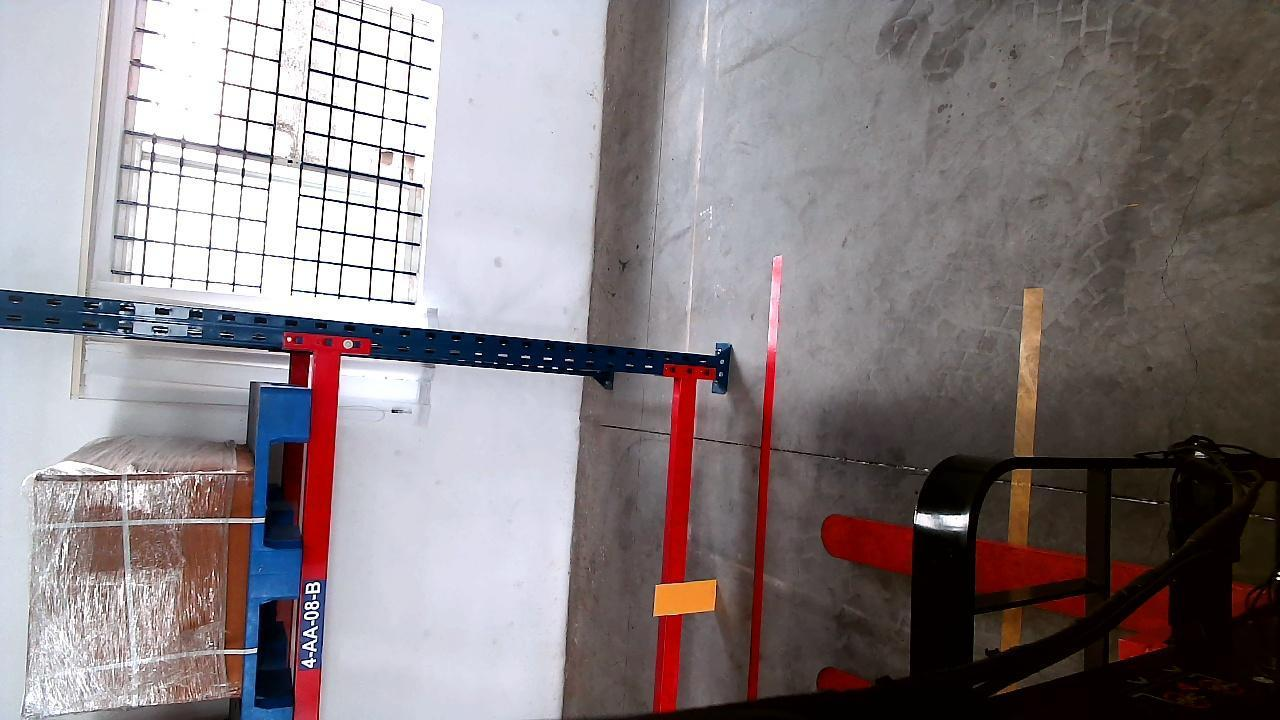h_rack: (295, 349, 343, 720), (656, 373, 694, 712)
orange_strip: (656, 580, 718, 616)
red_line: (742, 253, 781, 700)
small_pallet: (243, 392, 309, 720)
yellow_line: (1009, 283, 1042, 576)
